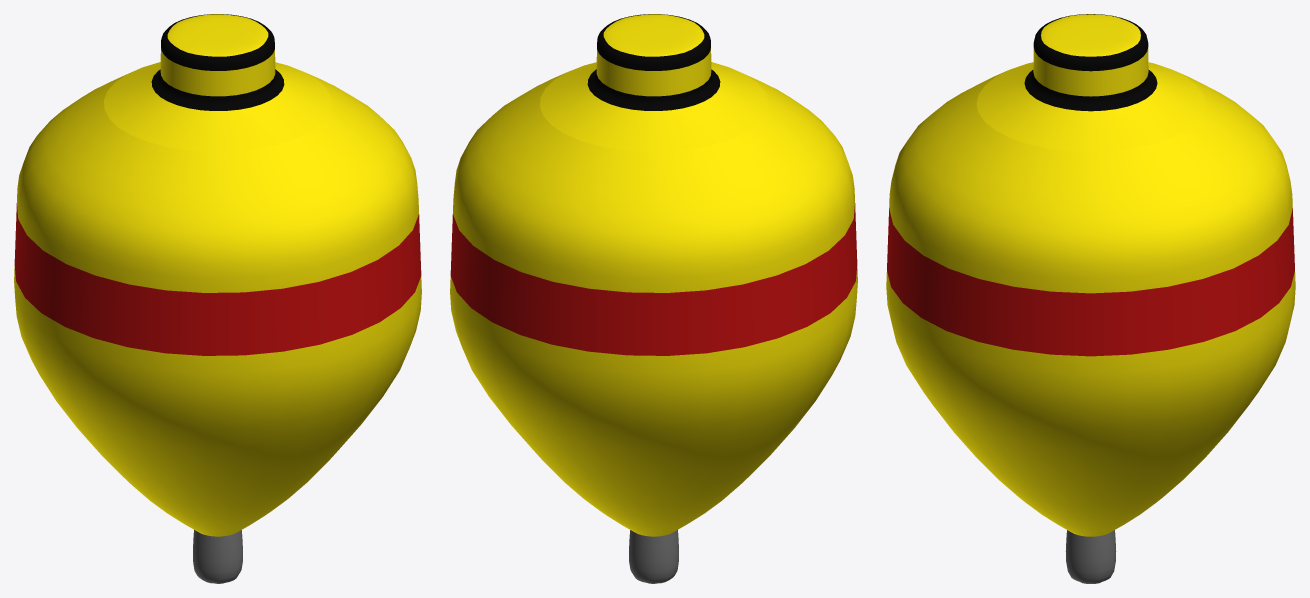
File: Trompo.fbx
3 renders of one model, left to right at view 1: azimuth 30°, elevation 25°; view 2: azimuth 150°, elevation 25°; view 3: azimuth 270°, elevation 25°, orthographic.
Visible parts, largest first — view 1: Trompo; view 2: Trompo; view 3: Trompo.
Boxes of the visible parts, x1,y1,x2,y2 form: Trompo: (14, 14, 421, 583); Trompo: (450, 14, 857, 583); Trompo: (886, 14, 1295, 583).
Size of the model in its own units: 33.78 by 49.56 by 33.78.
